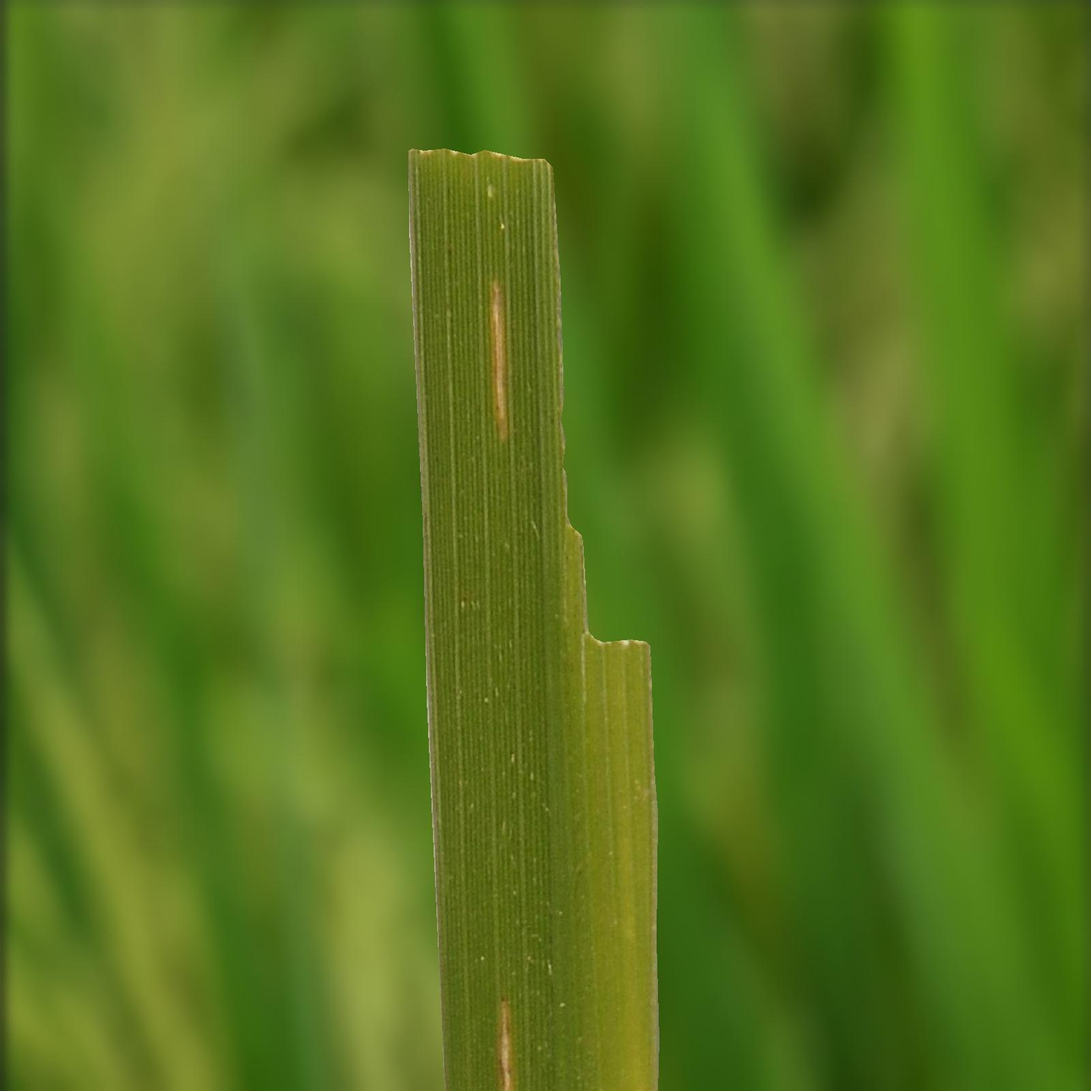BLS: (490, 280, 508, 440), (498, 999, 514, 1090)
LEAF: (408, 149, 659, 1090)
